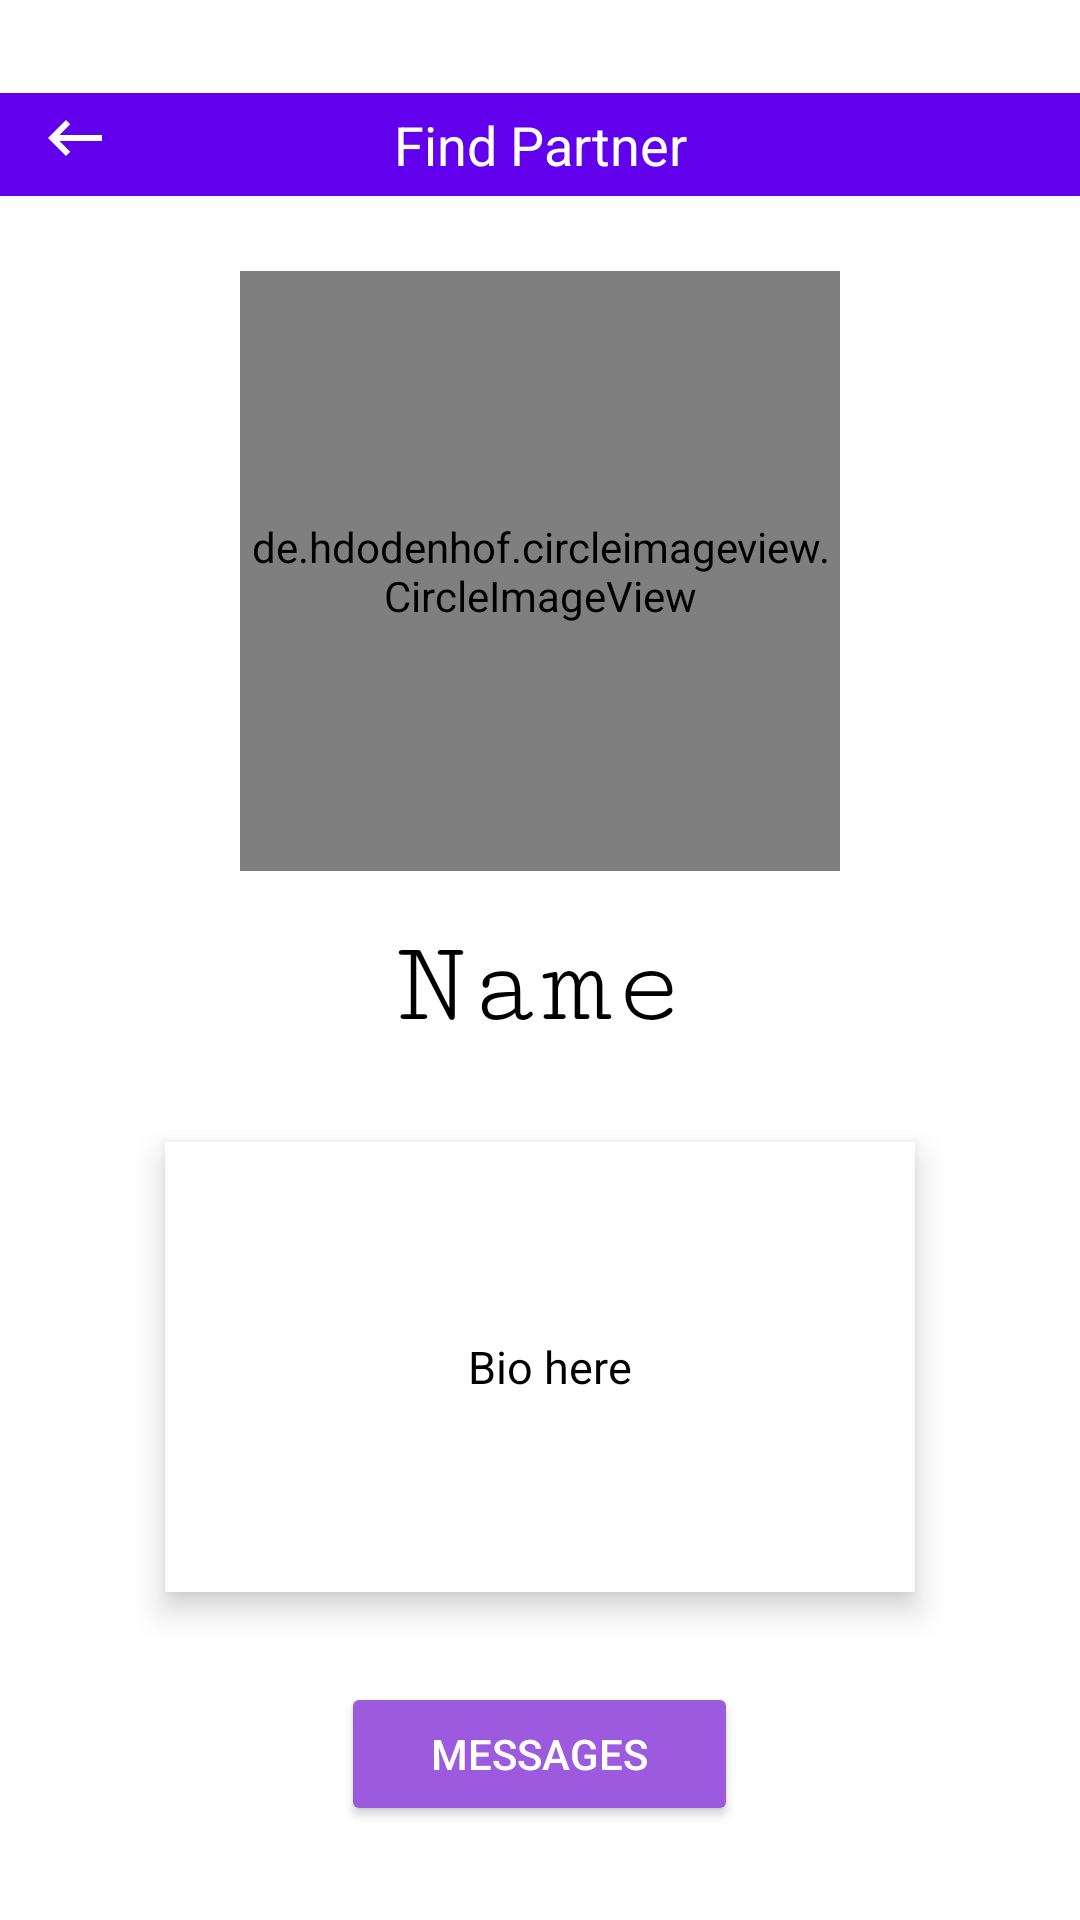

Where icons sit on this 1080x1920 app screen, as (x1, y1, x2, y2):
back: (48, 120, 102, 156)
